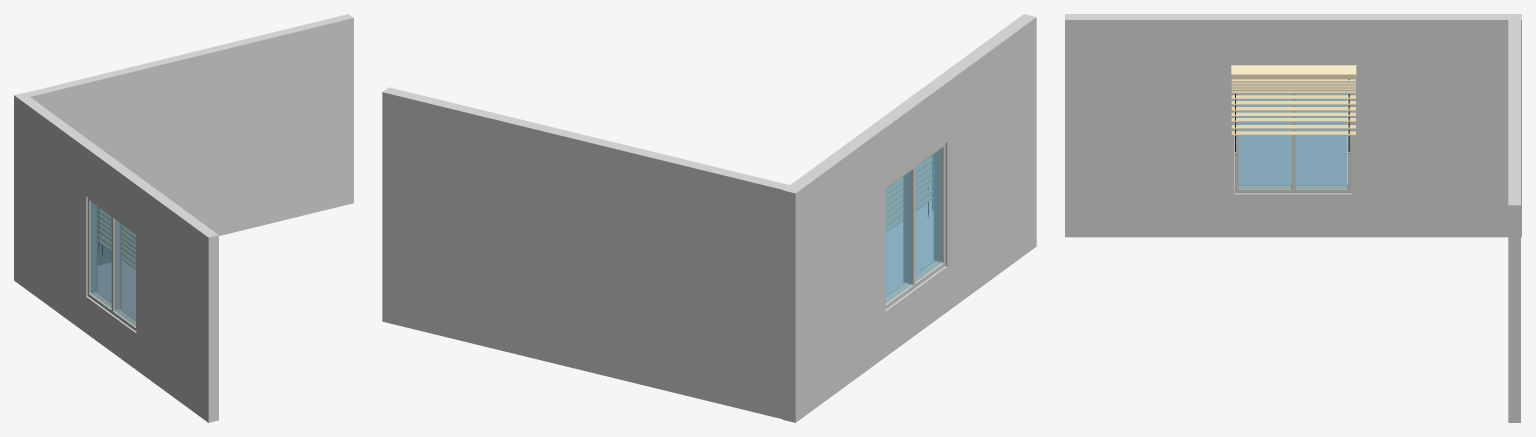
The model's file is walls_tier10.fbx.
3 views of the same model, side by side, from view 1: azimuth 30°, elevation 25°; view 2: azimuth 150°, elevation 25°; view 3: azimuth 270°, elevation 25° (orthographic). The views are drawn at different scales.
Parts seen in each view (by area): view 1: Cube.007, Cube, Cube.003, Cube.001; view 2: Cube.007, Cube, Cube.003, Cube.001; view 3: Cube, Cube.003, Cube.007, Cube.002, Cube.001, Cube.014, Cube.015, Cube.016, Cube.018, Cube.019, Cube.020, Cube.017.
Part boxes in pixels (<box>): Cube.007: <box>24,14,353,265</box>; Cube: <box>14,93,218,422</box>; Cube.003: <box>90,201,135,326</box>; Cube.001: <box>87,197,136,331</box>; Cube.007: <box>382,87,789,419</box>; Cube: <box>783,14,1036,422</box>; Cube.003: <box>886,148,941,303</box>; Cube.001: <box>885,143,945,309</box>; Cube: <box>1065,14,1521,237</box>; Cube.003: <box>1238,94,1347,188</box>; Cube.007: <box>1508,19,1520,422</box>; Cube.002: <box>1231,65,1356,79</box>; Cube.001: <box>1234,94,1351,193</box>; Cube.014: <box>1231,95,1355,99</box>; Cube.015: <box>1231,101,1355,105</box>; Cube.016: <box>1231,107,1355,111</box>; Cube.018: <box>1231,118,1355,122</box>; Cube.019: <box>1231,125,1355,129</box>; Cube.020: <box>1231,131,1355,135</box>; Cube.017: <box>1231,112,1355,116</box>.
Bounding box in the file's own units: 653 × 346 × 658.
